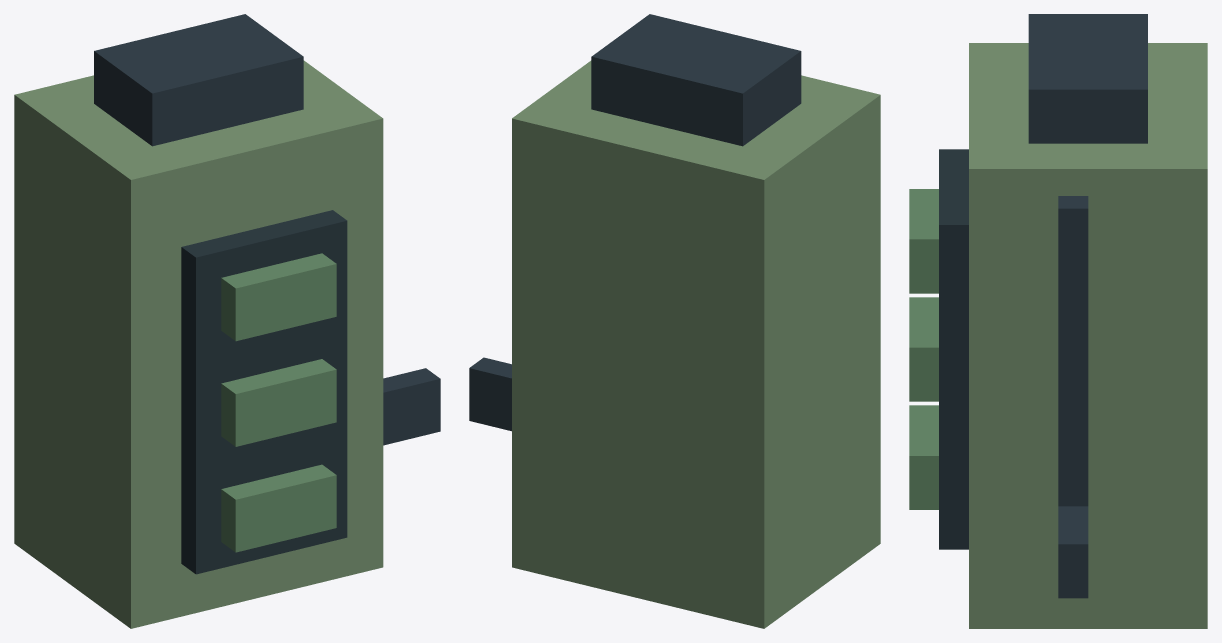
Rendered from climate-14.glb.
3 views of the same model, side by side, from view 1: azimuth 30°, elevation 25°; view 2: azimuth 150°, elevation 25°; view 3: azimuth 270°, elevation 25° (orthographic). The views are drawn at different scales.
Visible parts, largest first — view 1: Electric charger; view 2: Electric charger; view 3: Electric charger.
Part boxes in pixels (x1,y1,x2,y2): Electric charger: [14, 14, 440, 628]; Electric charger: [469, 14, 880, 628]; Electric charger: [909, 14, 1207, 628].
Bounding box in the file's own units: 1.12 × 1.52 × 0.8.
